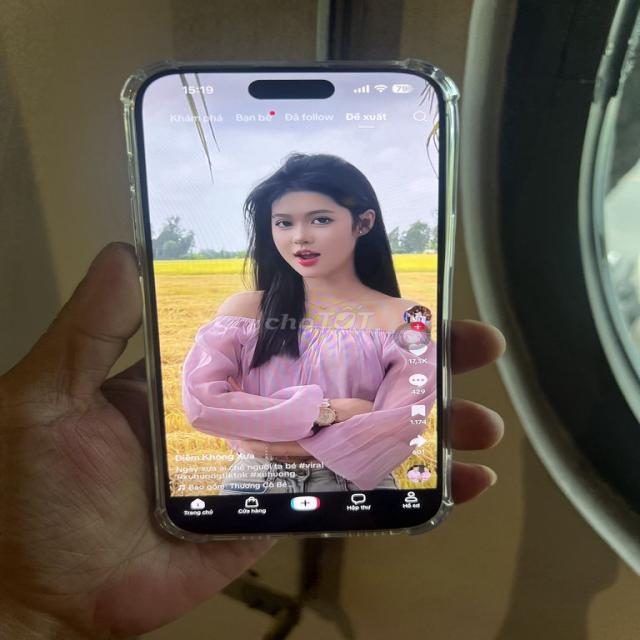gen_15: (115, 58, 472, 547)
